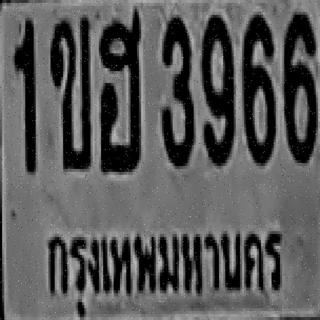A02: (48, 15, 88, 166)
A44: (98, 15, 140, 169)
N01: (13, 21, 36, 154)
N03: (160, 15, 192, 163)
N06: (282, 9, 316, 160), (240, 12, 274, 163)
N09: (200, 12, 234, 163)
P04: (41, 222, 284, 320)
